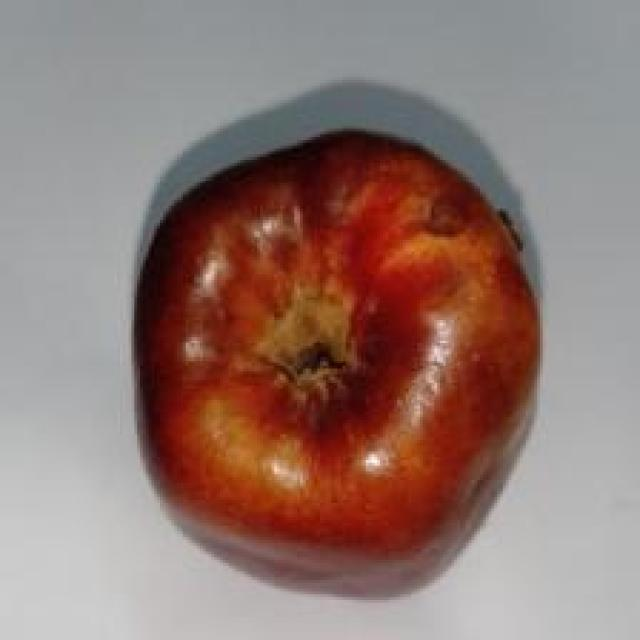rotten apple: (104, 68, 570, 616)
